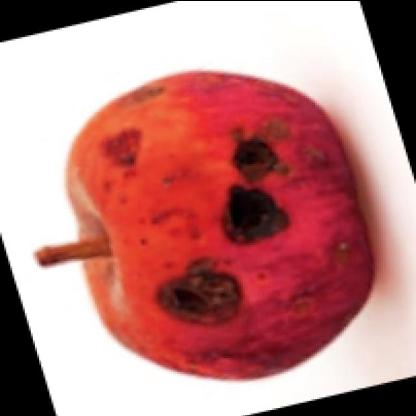defect: (224, 113, 294, 238), (96, 74, 167, 174), (154, 269, 238, 327)
